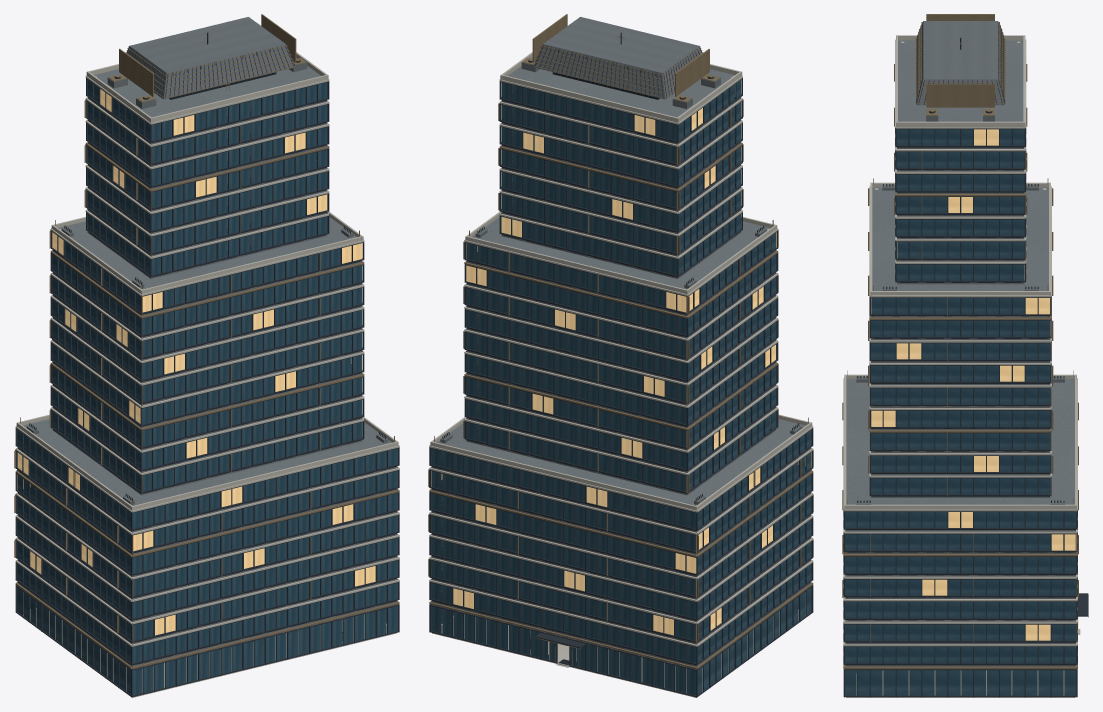
The model's file is tower_high.glb.
3 views of the same model, side by side, from view 1: azimuth 30°, elevation 25°; view 2: azimuth 150°, elevation 25°; view 3: azimuth 270°, elevation 25° (orthographic).
Parts seen in each view (by area): view 1: VIS_Curtainwall_Glass__glass, VIS_Transoms__graphite, VIS_Spandrel_Bands__limestone, VIS_Primary_Mullions__graphite, VIS_Floor_Slabs__concrete, VIS_Intermediate_Mullions__graphite, VIS_Mechanical_Crown__roof, VIS_Curtainwall_Glass__lit_glass, VIS_Setback_Deck__concrete, VIS_Ceiling_Suspension__shadow, VIS_Spandrel_Panels__shadow, VIS_Spandrel_Bands__champagne (+9 smaller); view 2: VIS_Curtainwall_Glass__glass, VIS_Transoms__graphite, VIS_Spandrel_Bands__limestone, VIS_Primary_Mullions__graphite, VIS_Floor_Slabs__concrete, VIS_Intermediate_Mullions__graphite, VIS_Mechanical_Crown__roof, VIS_Setback_Deck__concrete, VIS_Curtainwall_Glass__lit_glass, VIS_Ceiling_Suspension__shadow, VIS_Spandrel_Panels__shadow, VIS_Spandrel_Bands__champagne (+9 smaller); view 3: VIS_Curtainwall_Glass__glass, VIS_Transoms__graphite, VIS_Setback_Deck__concrete, VIS_Spandrel_Bands__limestone, VIS_Floor_Slabs__concrete, VIS_Primary_Mullions__graphite, VIS_Mechanical_Crown__roof, VIS_Ceiling_Suspension__shadow, VIS_Curtainwall_Glass__lit_glass, VIS_Spandrel_Panels__shadow, VIS_Roof_Deck__concrete, VIS_Setback_Parapet__limestone (+10 smaller).
Boxes of the visible parts, left/top/right/bottom form: VIS_Curtainwall_Glass__glass: left=17, top=79, right=397, bottom=695; VIS_Transoms__graphite: left=16, top=78, right=398, bottom=697; VIS_Spandrel_Bands__limestone: left=15, top=75, right=399, bottom=646; VIS_Primary_Mullions__graphite: left=15, top=78, right=399, bottom=697; VIS_Floor_Slabs__concrete: left=17, top=97, right=397, bottom=666; VIS_Intermediate_Mullions__graphite: left=22, top=83, right=387, bottom=693; VIS_Mechanical_Crown__roof: left=127, top=17, right=294, bottom=99; VIS_Curtainwall_Glass__lit_glass: left=17, top=89, right=375, bottom=635; VIS_Setback_Deck__concrete: left=23, top=217, right=391, bottom=505; VIS_Ceiling_Suspension__shadow: left=23, top=90, right=386, bottom=660; VIS_Spandrel_Panels__shadow: left=23, top=91, right=397, bottom=665; VIS_Spandrel_Bands__champagne: left=15, top=142, right=399, bottom=669; VIS_Curtainwall_Glass__glass: left=431, top=80, right=811, bottom=695; VIS_Transoms__graphite: left=430, top=78, right=812, bottom=697; VIS_Spandrel_Bands__limestone: left=429, top=76, right=813, bottom=646; VIS_Primary_Mullions__graphite: left=429, top=78, right=813, bottom=697; VIS_Floor_Slabs__concrete: left=431, top=97, right=811, bottom=666; VIS_Intermediate_Mullions__graphite: left=441, top=83, right=806, bottom=693; VIS_Mechanical_Crown__roof: left=534, top=17, right=701, bottom=99; VIS_Setback_Deck__concrete: left=437, top=217, right=805, bottom=505; VIS_Curtainwall_Glass__lit_glass: left=431, top=108, right=811, bottom=635; VIS_Ceiling_Suspension__shadow: left=441, top=90, right=805, bottom=660; VIS_Spandrel_Panels__shadow: left=431, top=91, right=805, bottom=665; VIS_Spandrel_Bands__champagne: left=429, top=142, right=813, bottom=669; VIS_Curtainwall_Glass__glass: left=845, top=129, right=1076, bottom=695; VIS_Transoms__graphite: left=844, top=128, right=1076, bottom=696; VIS_Setback_Deck__concrete: left=846, top=187, right=1074, bottom=504; VIS_Spandrel_Bands__limestone: left=843, top=39, right=1077, bottom=646; VIS_Floor_Slabs__concrete: left=845, top=147, right=1075, bottom=666; VIS_Primary_Mullions__graphite: left=843, top=128, right=1077, bottom=697; VIS_Mechanical_Crown__roof: left=916, top=21, right=1004, bottom=105; VIS_Ceiling_Suspension__shadow: left=856, top=129, right=1064, bottom=663; VIS_Curtainwall_Glass__lit_glass: left=871, top=129, right=1076, bottom=640; VIS_Spandrel_Panels__shadow: left=845, top=147, right=1075, bottom=665; VIS_Roof_Deck__concrete: left=898, top=40, right=1023, bottom=121; VIS_Setback_Parapet__limestone: left=844, top=182, right=1076, bottom=509.
Size of the model in its own units: 48.68 by 102 by 38.18.
8 materials, 8 textured.
